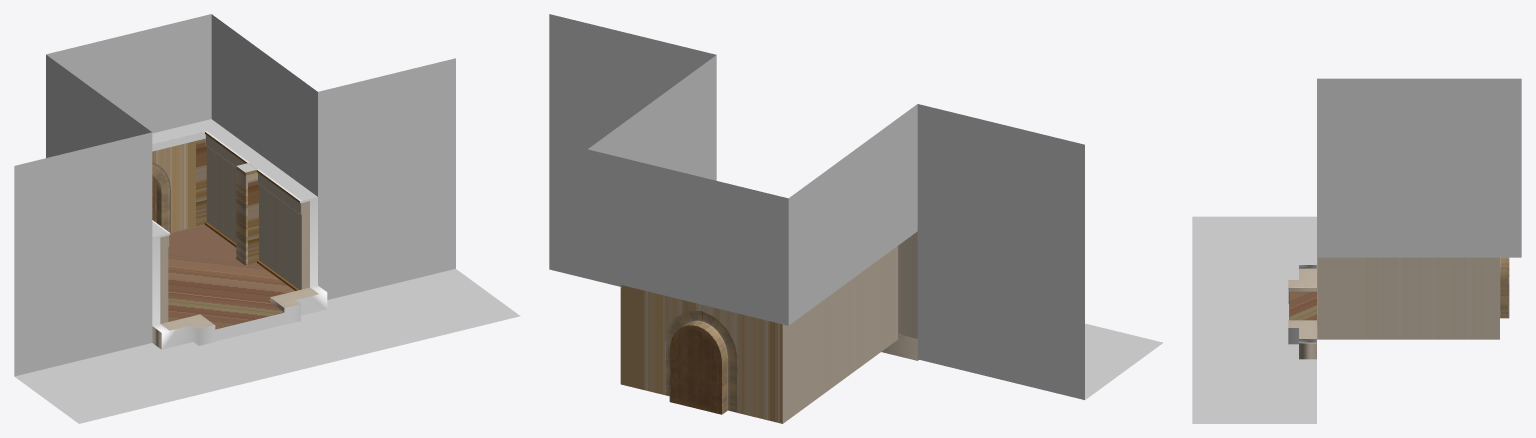
File: a_com_house_a02.gltf
3 renders of one model, left to right at view 1: azimuth 30°, elevation 25°; view 2: azimuth 150°, elevation 25°; view 3: azimuth 270°, elevation 25°, orthographic. The views are drawn at different scales.
Visible parts, largest first — view 1: outside_black_mesh_shape:a_com_house_a02_outside_black01, um_a_com_house_a02_model_a_com_house_a02_modelShape:a_com_ho (×6), nomerge_outside_edge_shape:mat_texture_edge01, dirt_mesh6_shape:a_com_house_a02_door01_transparent_lmg05, dirt_mesh4_shape:a_com_house_a02_door01_transparent_lmg05; view 2: outside_black_mesh_shape:a_com_house_a02_outside_black01, um_a_com_house_a02_model_a_com_house_a02_modelShape:a_com_ho (×4); view 3: outside_black_mesh_shape:a_com_house_a02_outside_black01, um_a_com_house_a02_model_a_com_house_a02_modelShape:a_com_ho (×4), nomerge_outside_edge_shape:mat_texture_edge01.
Part boxes in pixels (left/top/right/bottom): outside_black_mesh_shape:a_com_house_a02_outside_black01: left=14, top=14, right=520, bottom=423; um_a_com_house_a02_model_a_com_house_a02_modelShape:a_com_ho (×6): left=152, top=132, right=318, bottom=349; nomerge_outside_edge_shape:mat_texture_edge01: left=152, top=131, right=327, bottom=349; dirt_mesh6_shape:a_com_house_a02_door01_transparent_lmg05: left=248, top=180, right=258, bottom=264; dirt_mesh4_shape:a_com_house_a02_door01_transparent_lmg05: left=196, top=142, right=206, bottom=226; outside_black_mesh_shape:a_com_house_a02_outside_black01: left=549, top=14, right=1163, bottom=399; um_a_com_house_a02_model_a_com_house_a02_modelShape:a_com_ho (×4): left=620, top=231, right=918, bottom=423; outside_black_mesh_shape:a_com_house_a02_outside_black01: left=1192, top=78, right=1521, bottom=423; um_a_com_house_a02_model_a_com_house_a02_modelShape:a_com_ho (×4): left=1288, top=257, right=1509, bottom=359; nomerge_outside_edge_shape:mat_texture_edge01: left=1288, top=265, right=1316, bottom=344.
Bounding box in the file's own units: 14 × 6.42 × 9.4.
Materials: 9 (7 with a texture image).
